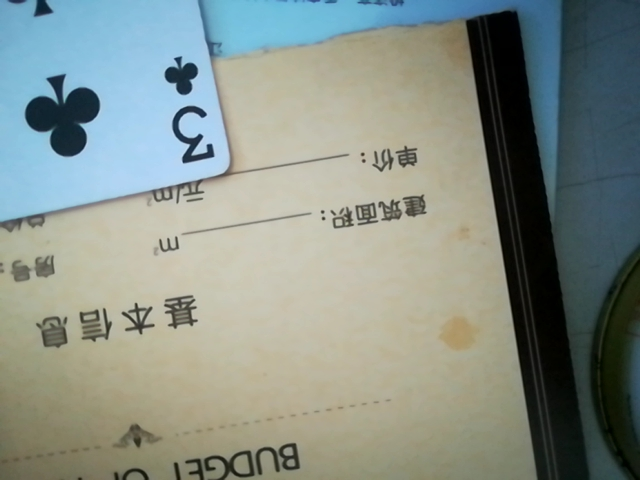mh 3: (0, 0, 227, 243)
